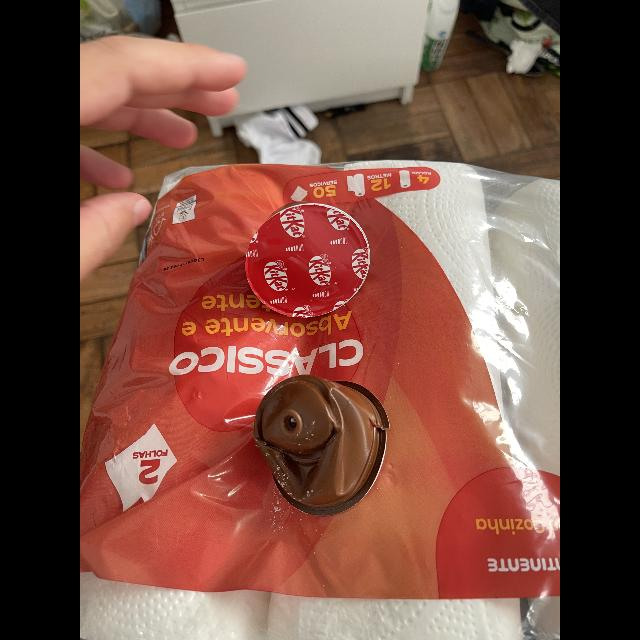damaged_capsule: (250, 366, 398, 520)
intact_capsule: (240, 195, 392, 327)
